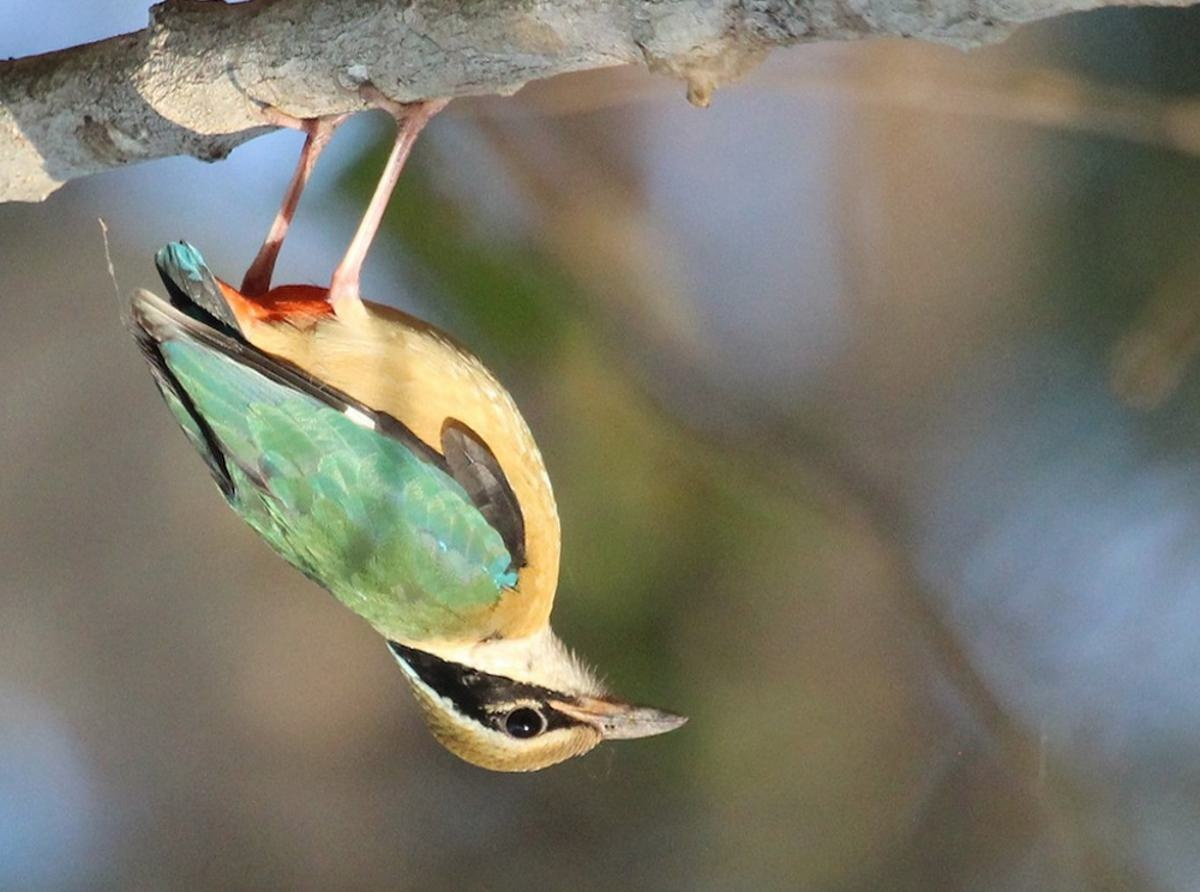pitta: (76, 56, 704, 794)
